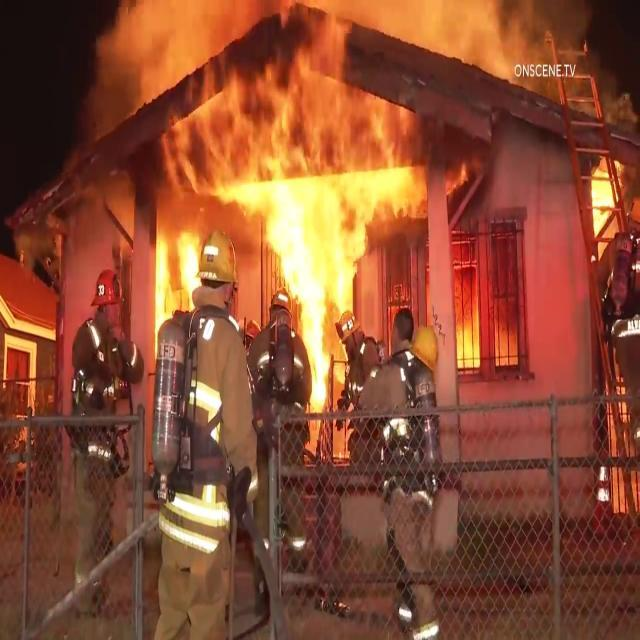Fire: (252, 159, 378, 373), (150, 221, 202, 330), (588, 156, 622, 232)
